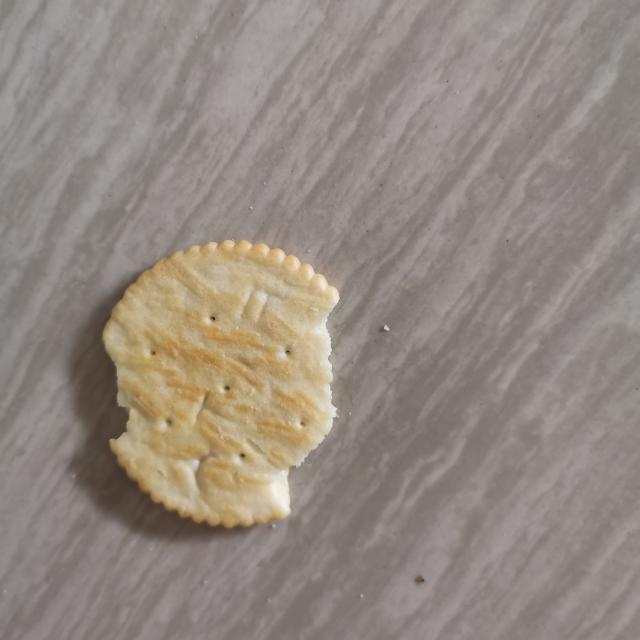Broken: (101, 238, 341, 530)
